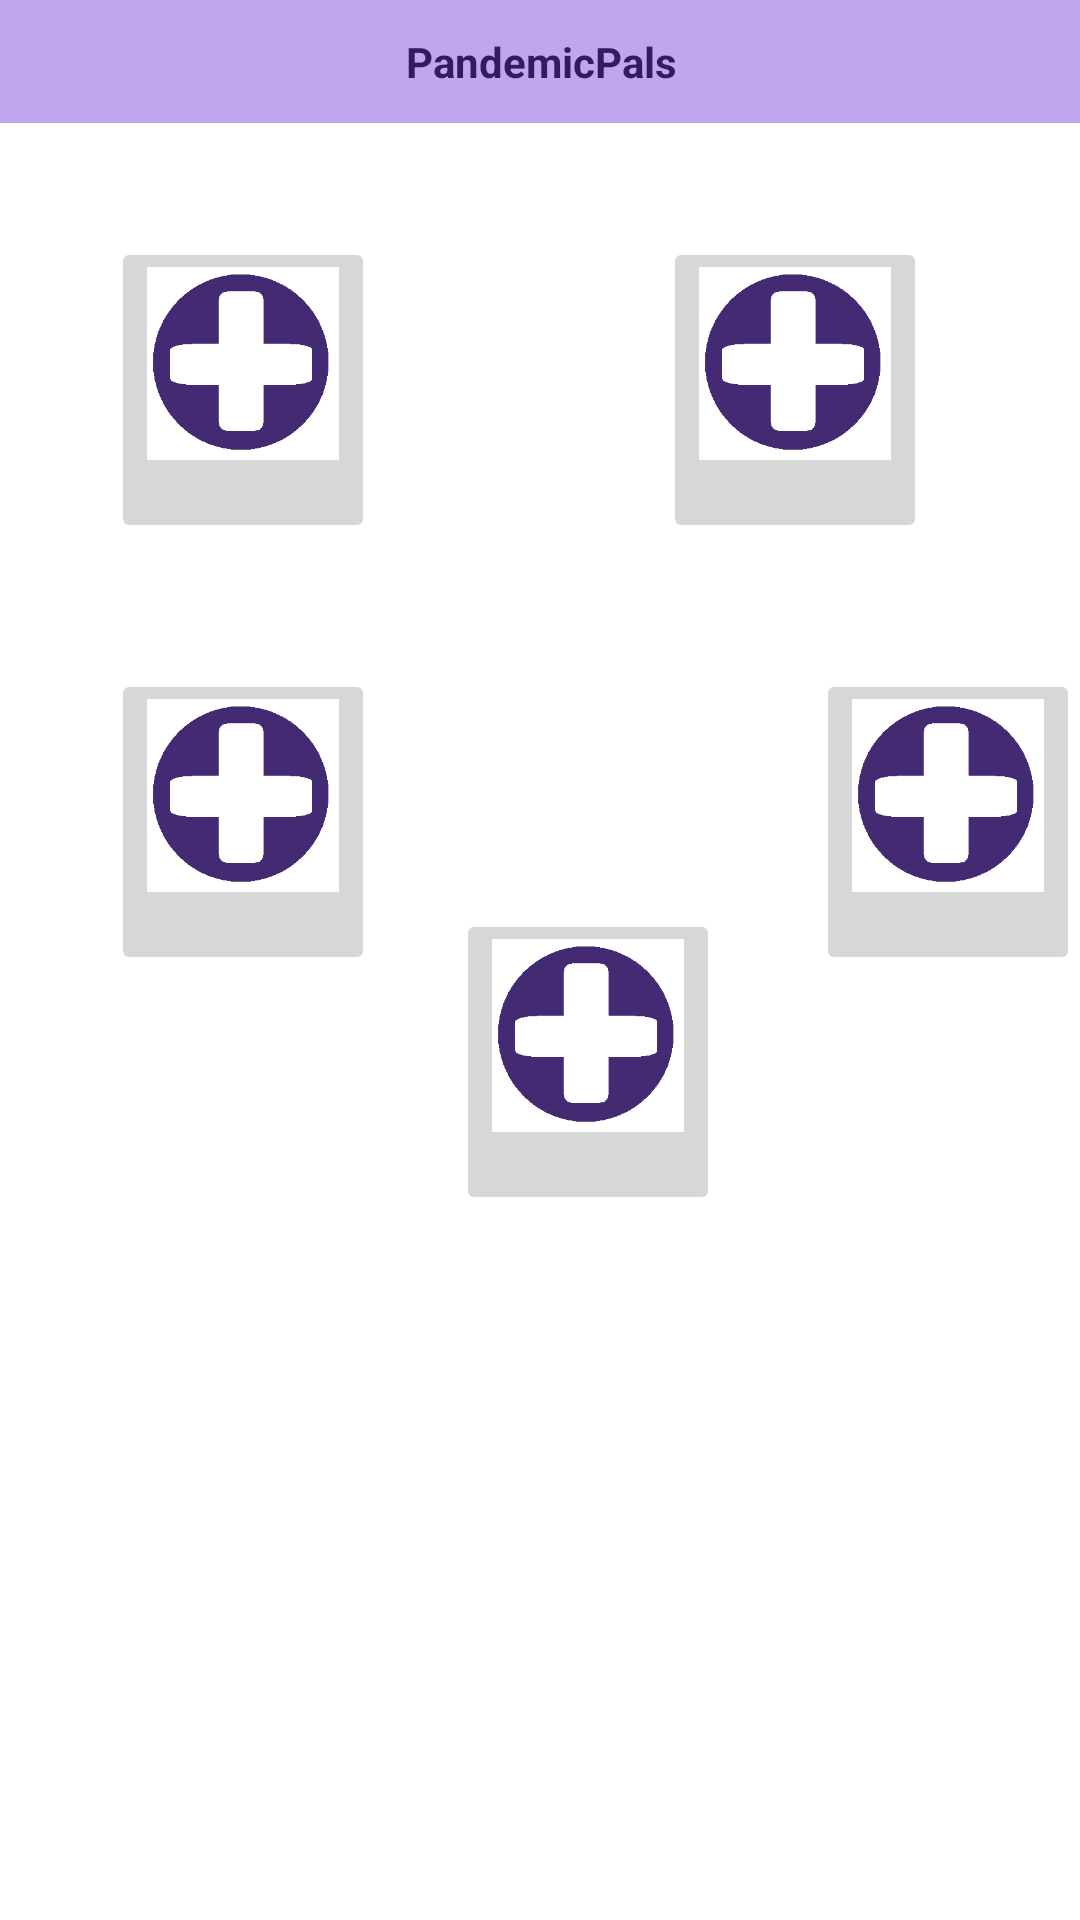

Icons on this 1080px×1920px Android screen, each with the point to tap as [x,y]:
plus: [243,390], [795,390], [243,822], [948,822], [588,1062]
